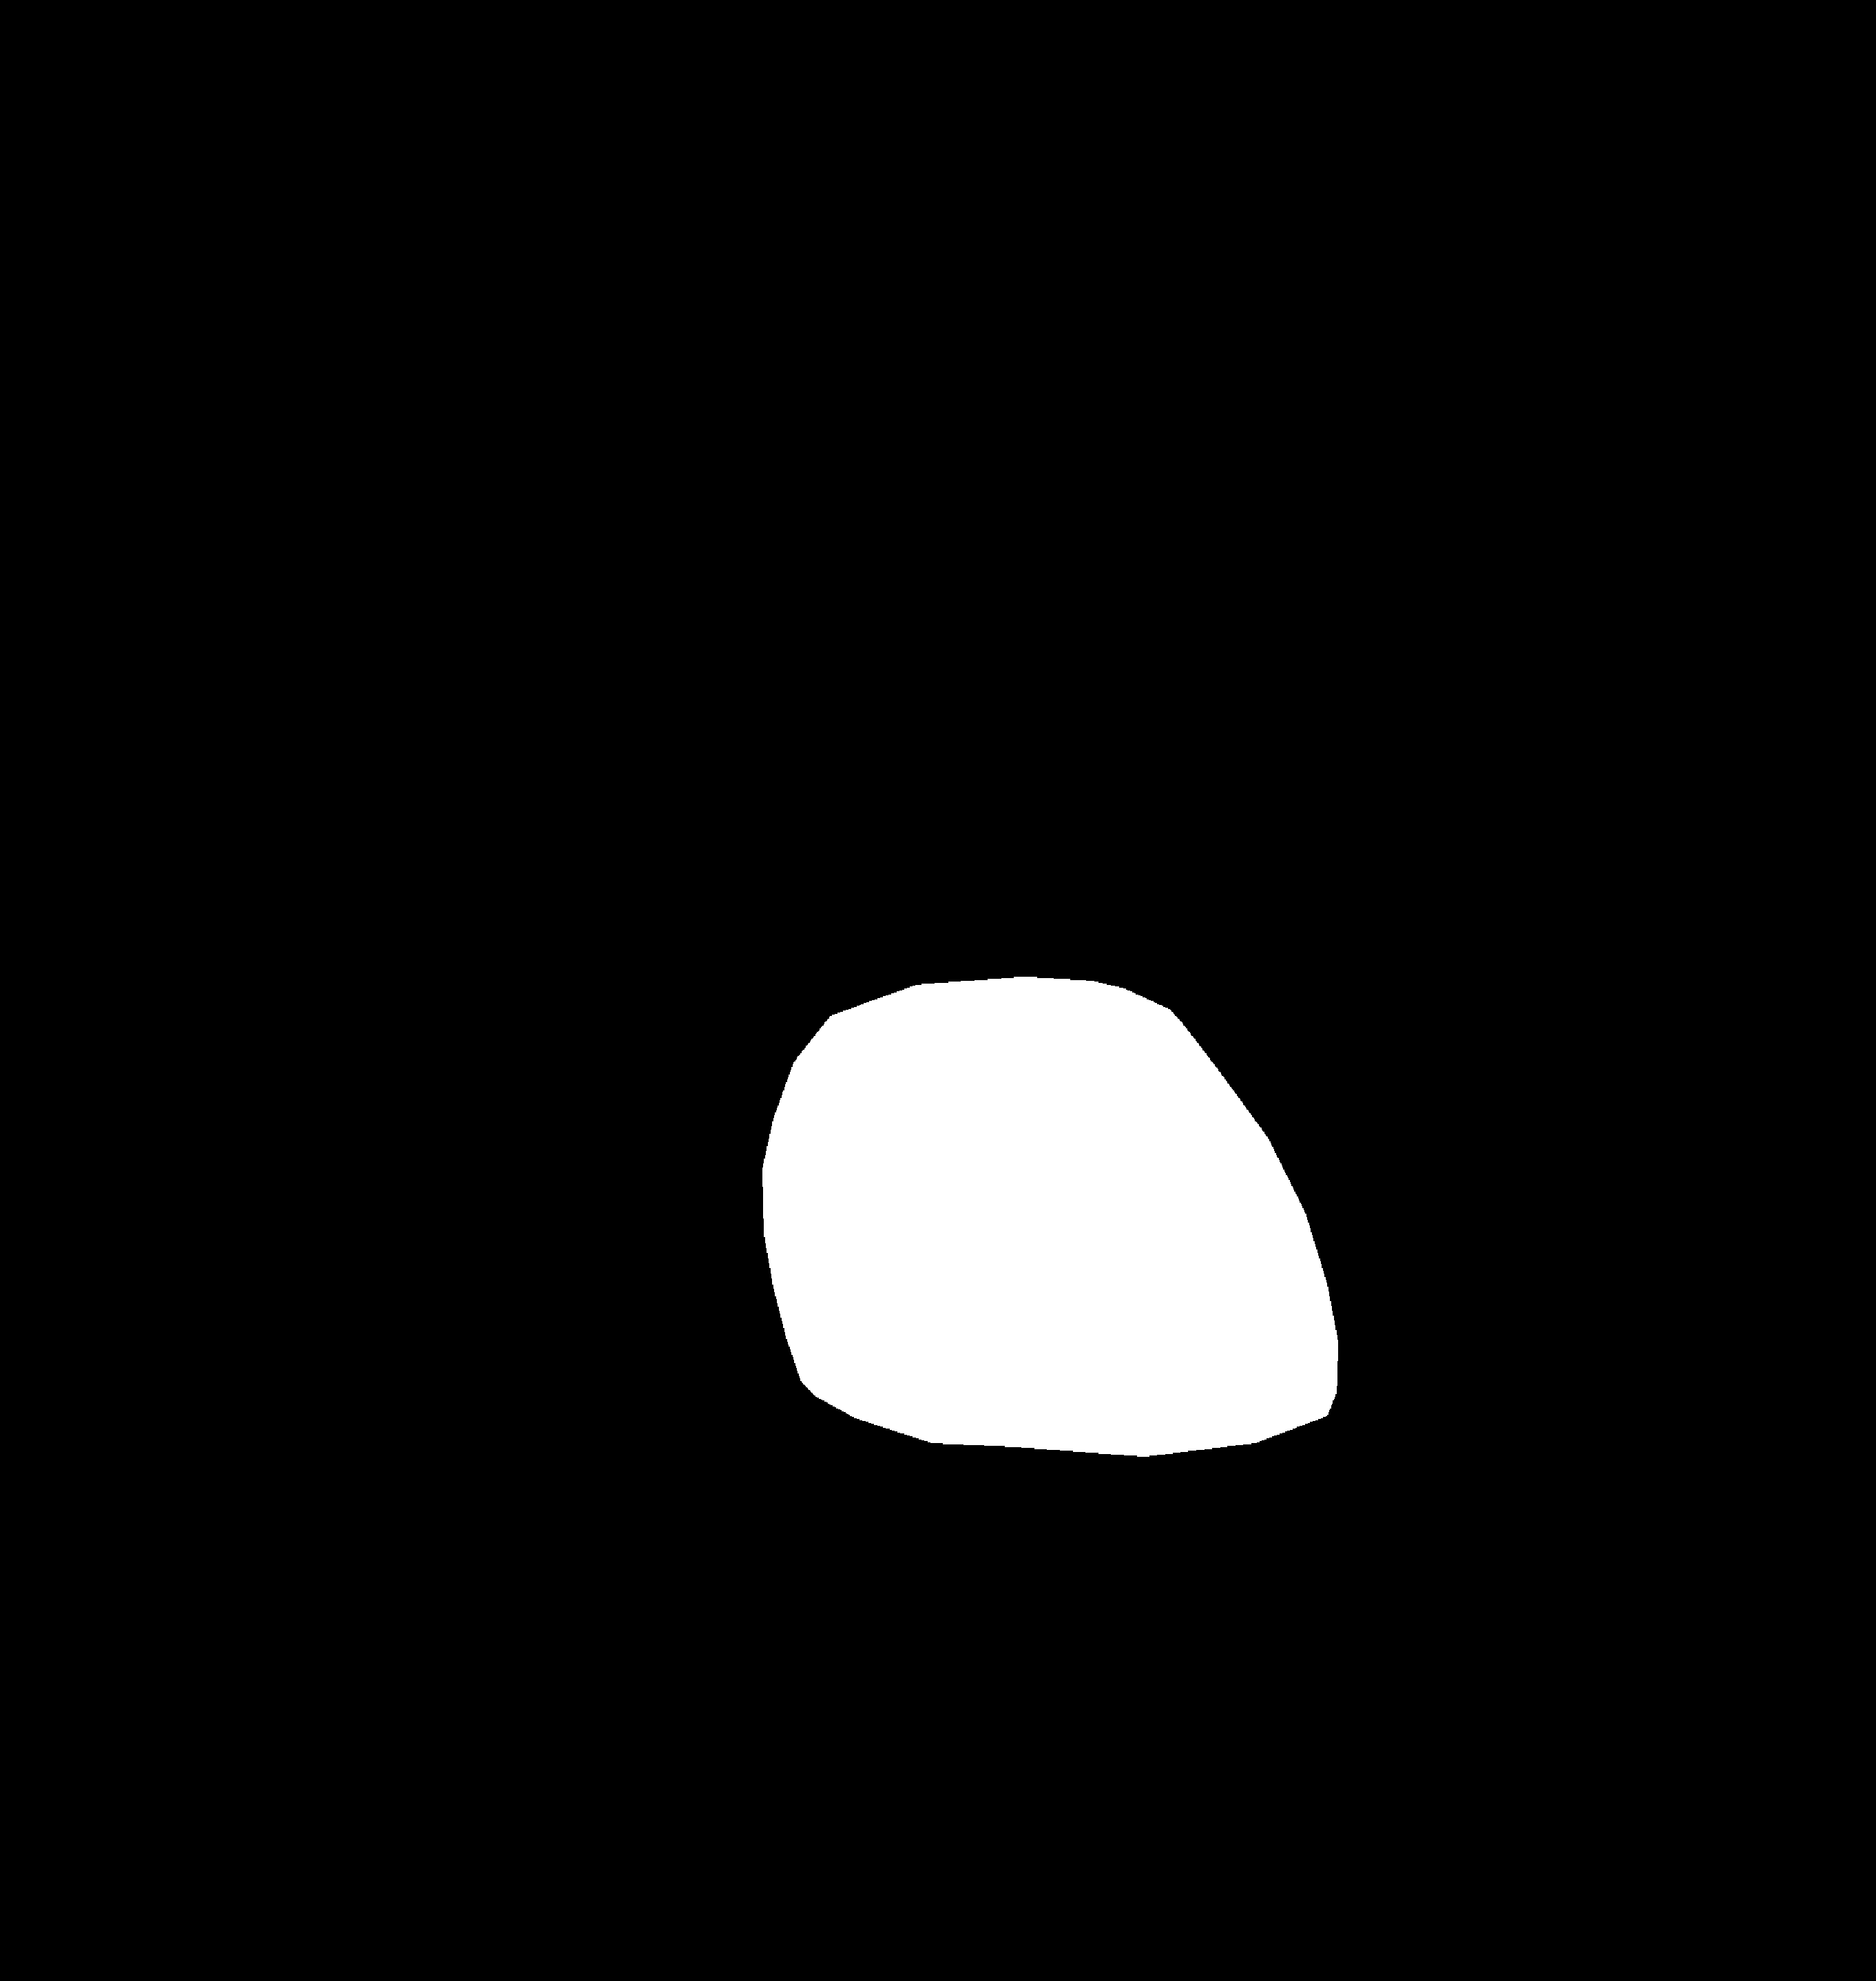heart: (765, 1037, 1342, 1526)
left_lung: (185, 261, 885, 1616)
right_lung: (1084, 272, 1620, 1598)
